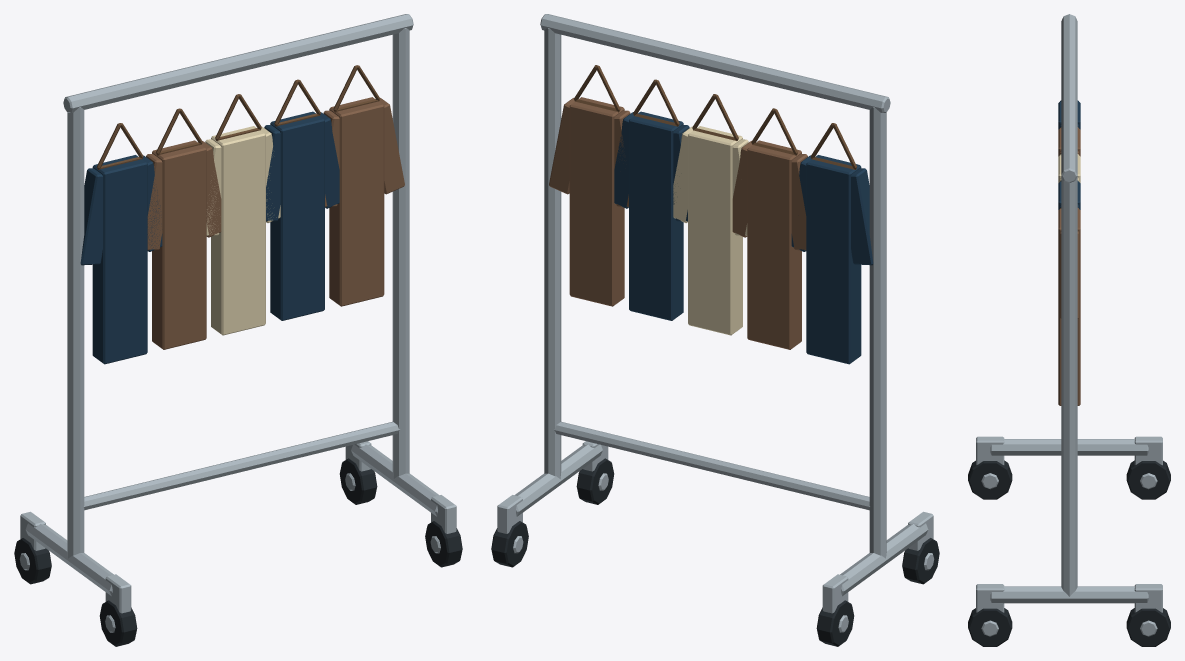
The model's file is b10_rolling_sidewalk_garment_rack.glb.
The picture shows the model from 3 angles, left to right: view 1: azimuth 30°, elevation 25°; view 2: azimuth 150°, elevation 25°; view 3: azimuth 270°, elevation 25°; orthographic projection. The views are drawn at different scales.
Parts seen in each view (by area): view 1: b10_rolling_sidewalk_garment_rack; view 2: b10_rolling_sidewalk_garment_rack; view 3: b10_rolling_sidewalk_garment_rack.
Boxes of the visible parts, box(x1,y1,x2,y2) form: b10_rolling_sidewalk_garment_rack: box(14, 14, 462, 646); b10_rolling_sidewalk_garment_rack: box(491, 14, 939, 646); b10_rolling_sidewalk_garment_rack: box(968, 14, 1170, 646).
Bounding box in the file's own units: 1.16 × 1.67 × 0.64.
